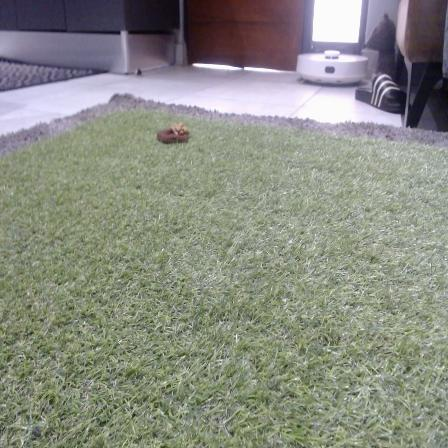dog-poop: (155, 119, 191, 144)
